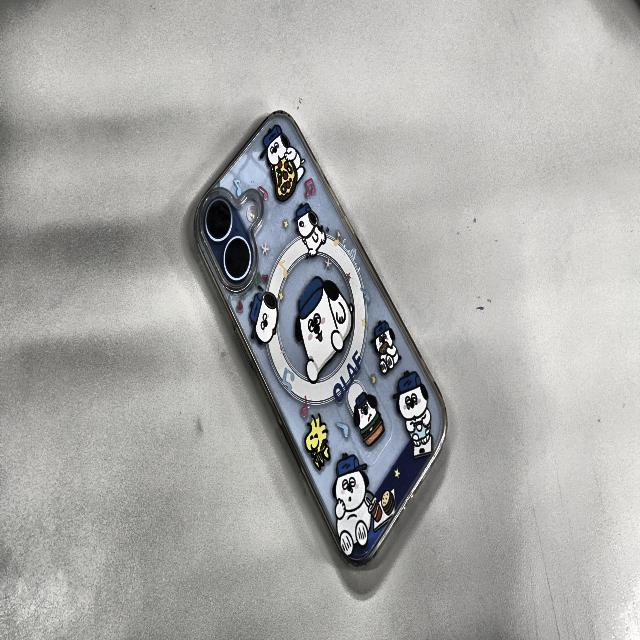PHONE: (194, 112, 447, 566)
